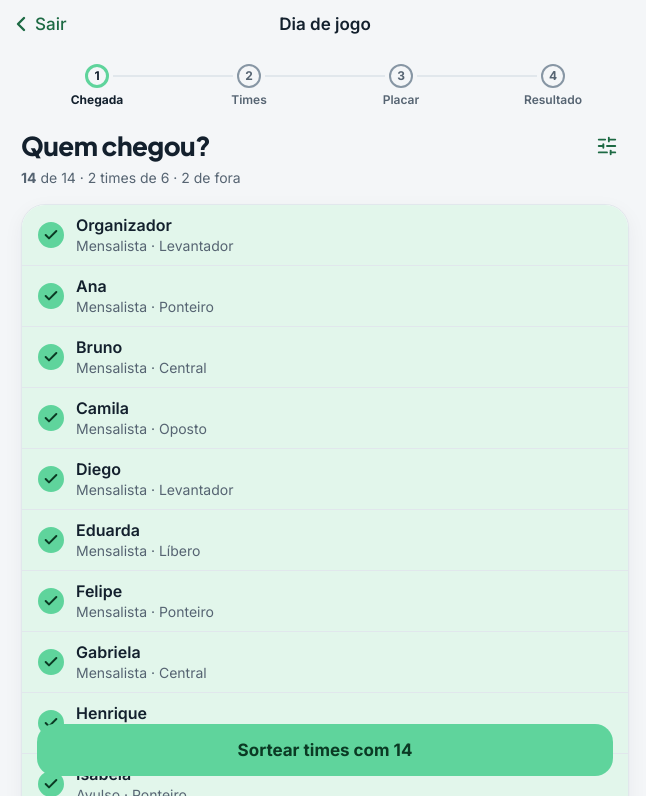
Modo demonstração › o dia de jogo da demo já começa com os 14 marcados e sorteia
Expected: the heading "Quem chegou?" is shown, [21,130,210,162]
Click the button "Sortear times com 14" at point(325, 750), box [37,724,613,776]
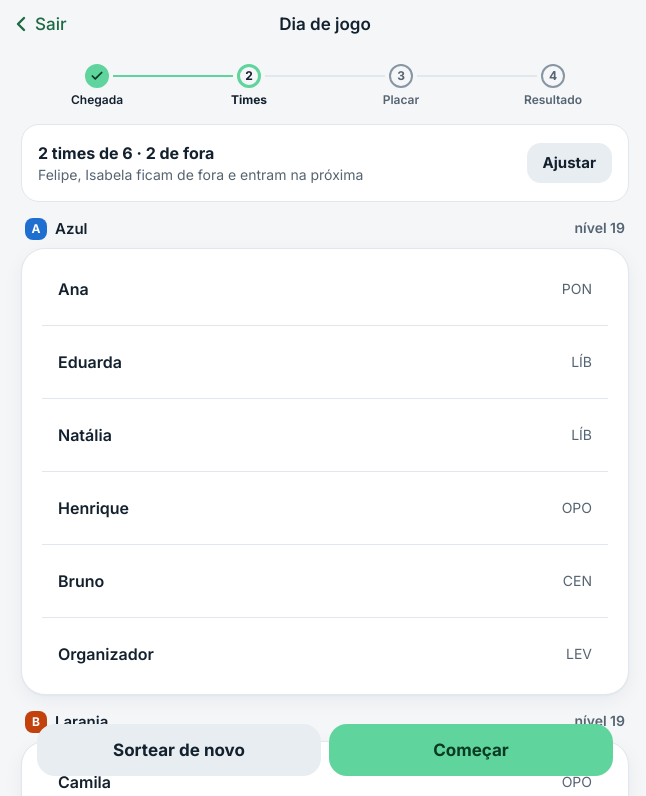
Now the button "Começar" is shown, box [329,724,613,776]
